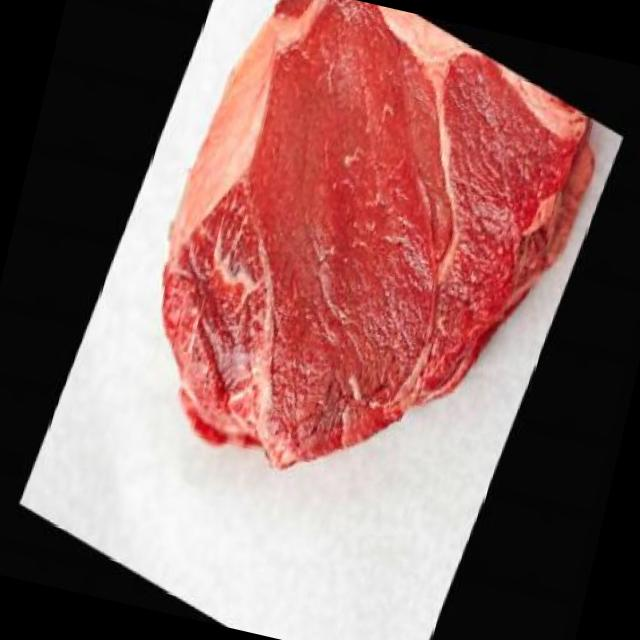beaf: (75, 0, 627, 596)
